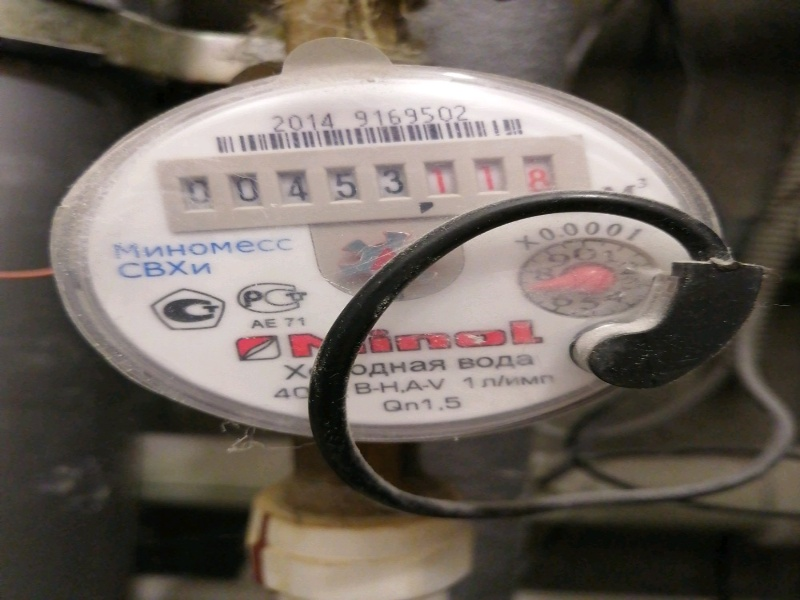meter: (153, 155, 593, 214)
